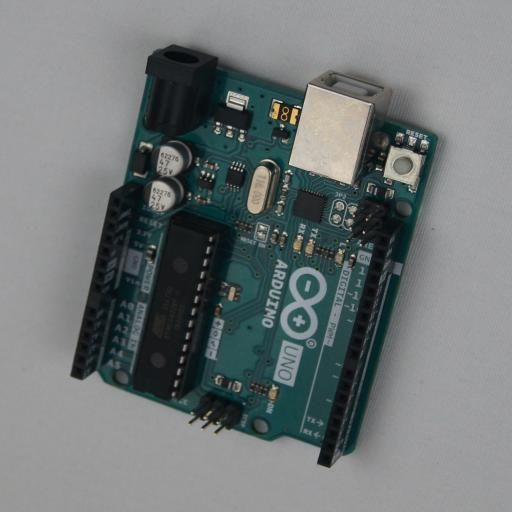Arduino Uno -Green-: (70, 44, 442, 468)
